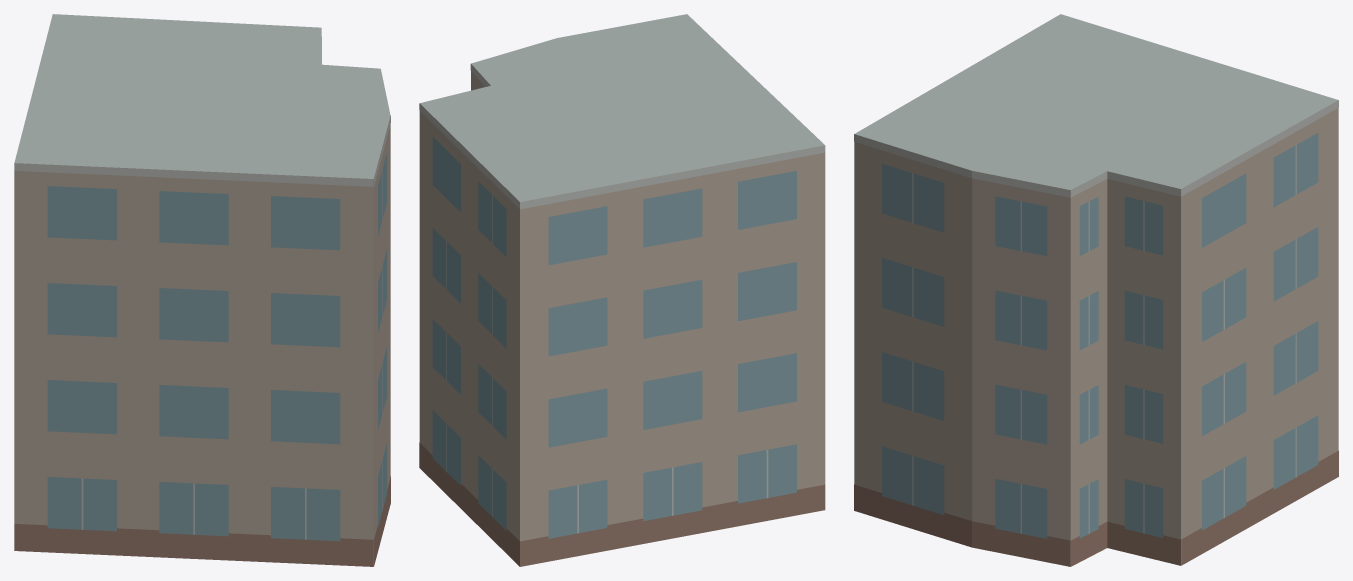
The model's file is survey-upis-32948228.glb.
The picture shows the model from 3 angles, left to right: view 1: azimuth 30°, elevation 25°; view 2: azimuth 150°, elevation 25°; view 3: azimuth 270°, elevation 25°; orthographic projection. The views are drawn at different scales.
Visible parts, largest first — view 1: survey-upis-32948228.tmp; view 2: survey-upis-32948228.tmp; view 3: survey-upis-32948228.tmp.
Boxes of the visible parts, <box> form: survey-upis-32948228.tmp: <box>14,14,390,566</box>; survey-upis-32948228.tmp: <box>419,14,825,566</box>; survey-upis-32948228.tmp: <box>854,14,1338,566</box>.
Bounding box in the file's own units: 12.24 × 12.2 × 14.23.
